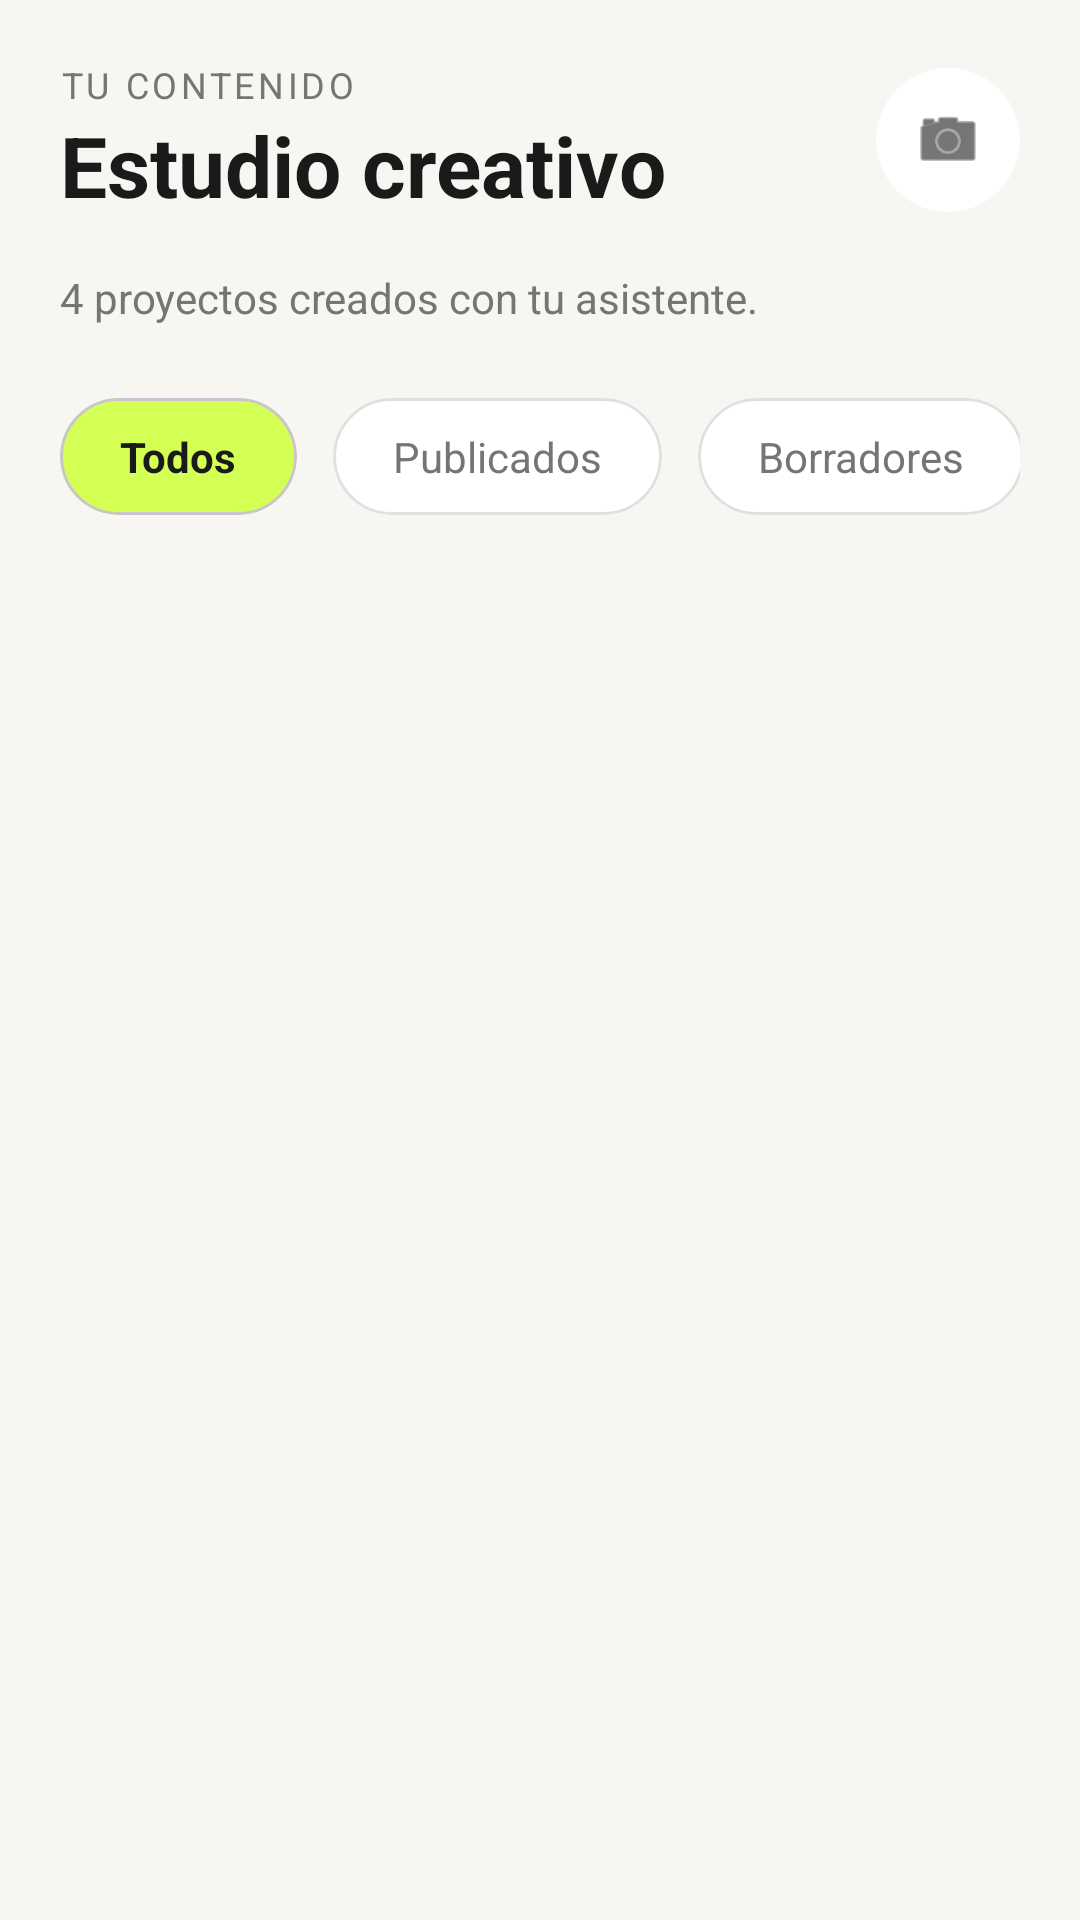

Icon click points for this 1080px×1920px phone screenshot, format [x,y]:
camera: [948,139]
